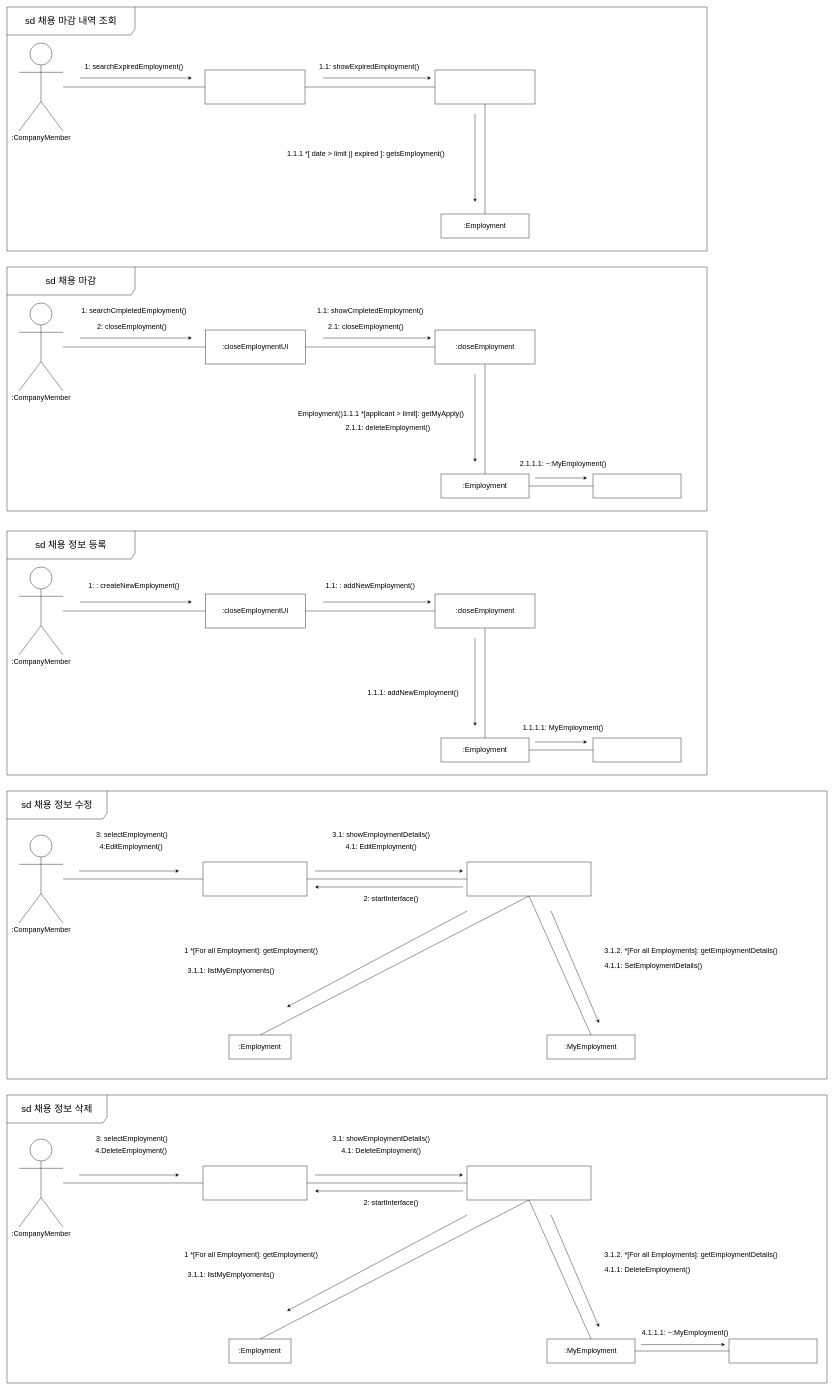
Some shapes in this 835 by 1390 pixel diagram are drawn without their labels. The shapes that lost their labels are listed below. From the top down, each one's centre as x and y in pixels, then its label:
the point at 255,87: :ExpiredEmploymentUI
the point at 485,87: : ExpiredEmployment
the point at 637,486: deleteMyEmployment :My Employment
the point at 637,750: newMyEmployment :My Employment
the point at 255,879: :EmploymentinfoUI
the point at 529,879: :Employmentinfo
the point at 255,1183: :EmploymentdeleteUI
the point at 529,1183: :Employmentdelete
the point at 773,1351: deleteMyEmployment : MyEmployment
